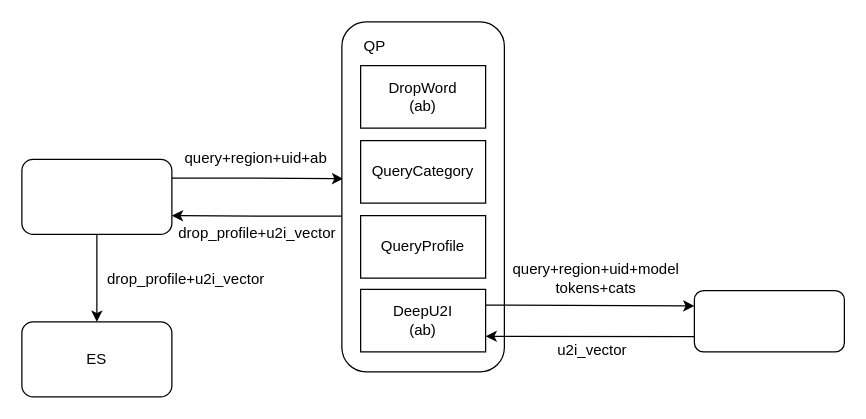
This 866x419 diagram has some shape labels left out. The centre of each missing label's shape, as x and y in pixels:
Algo-SS: [96,196]
QRS: [768,320]
